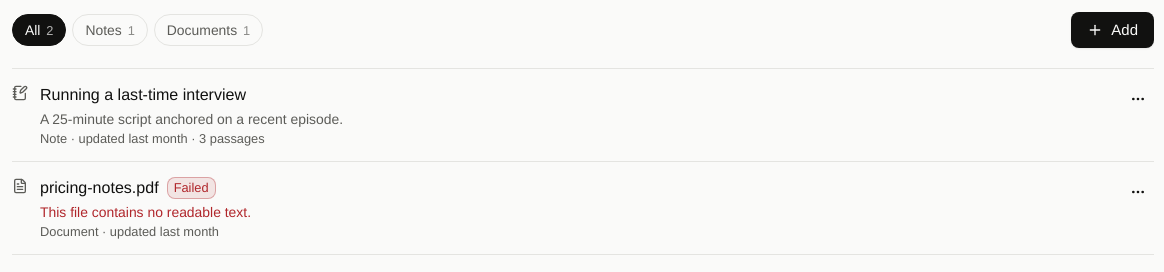
Test: LibraryTab (common pool) › lists sources with their state, and filters by kind
The image size is (1164, 272).
expect the button "Running a last-time interview" is shown: met, box [40,83,246,107]
expect the text "This file contains no readable text." is shown: met, box [40,204,251,220]
Click the button "Documents 1": (208, 30) [154,14,263,46]
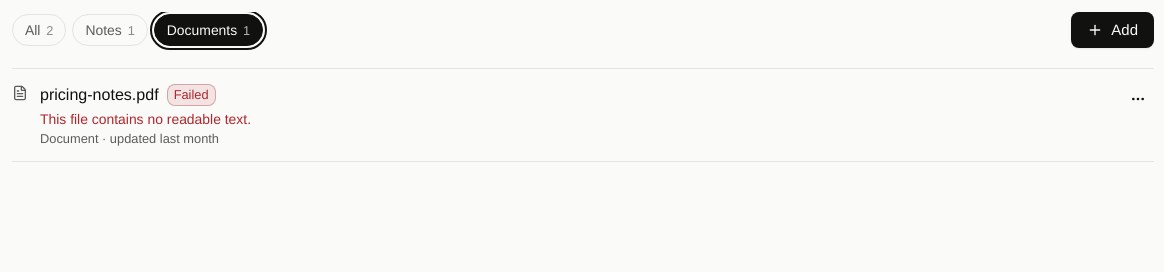
expect the button "Running a last-time interview" is gone: met
